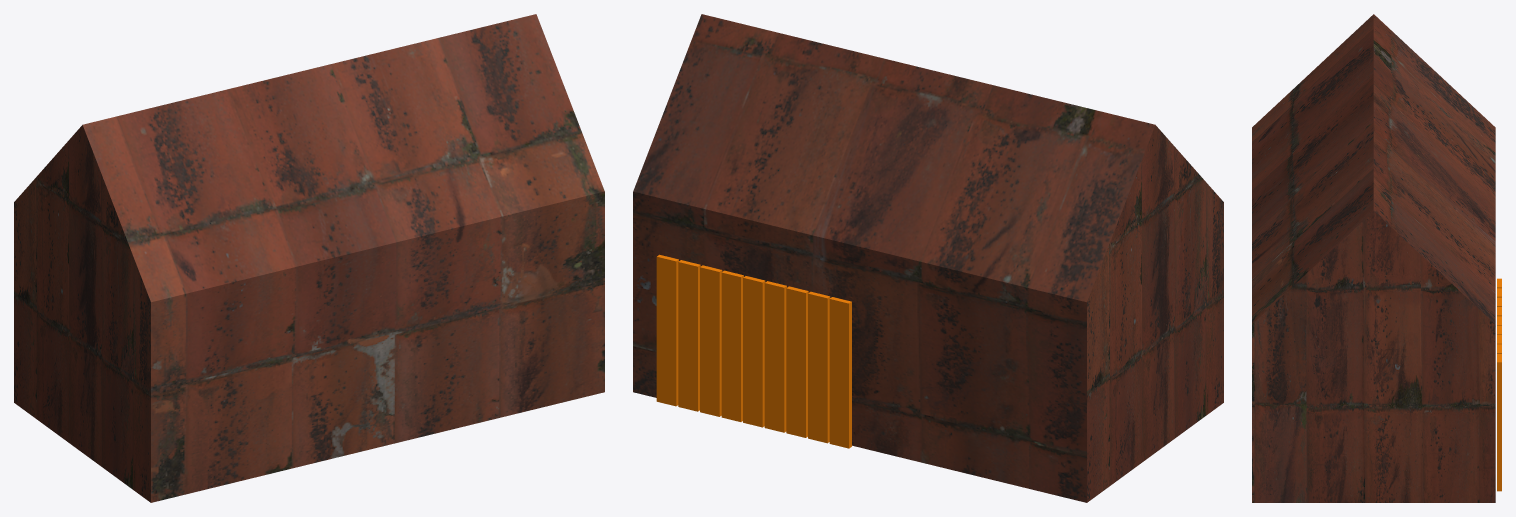
Rendered from barn.fbx.
The picture shows the model from 3 angles, left to right: view 1: azimuth 30°, elevation 25°; view 2: azimuth 150°, elevation 25°; view 3: azimuth 270°, elevation 25°; orthographic projection. The views are drawn at different scales.
Visible parts, largest first — view 1: Cube; view 2: Cube, Cube.001; view 3: Cube, Cube.001.
Boxes of the visible parts, left/top/right/bottom form: Cube: left=14, top=14, right=604, bottom=502; Cube: left=633, top=14, right=1223, bottom=502; Cube.001: left=656, top=254, right=851, bottom=448; Cube: left=1252, top=14, right=1495, bottom=502; Cube.001: left=1497, top=278, right=1501, bottom=491.
Bounding box in the file's own units: 1894 × 1309 × 1015.
